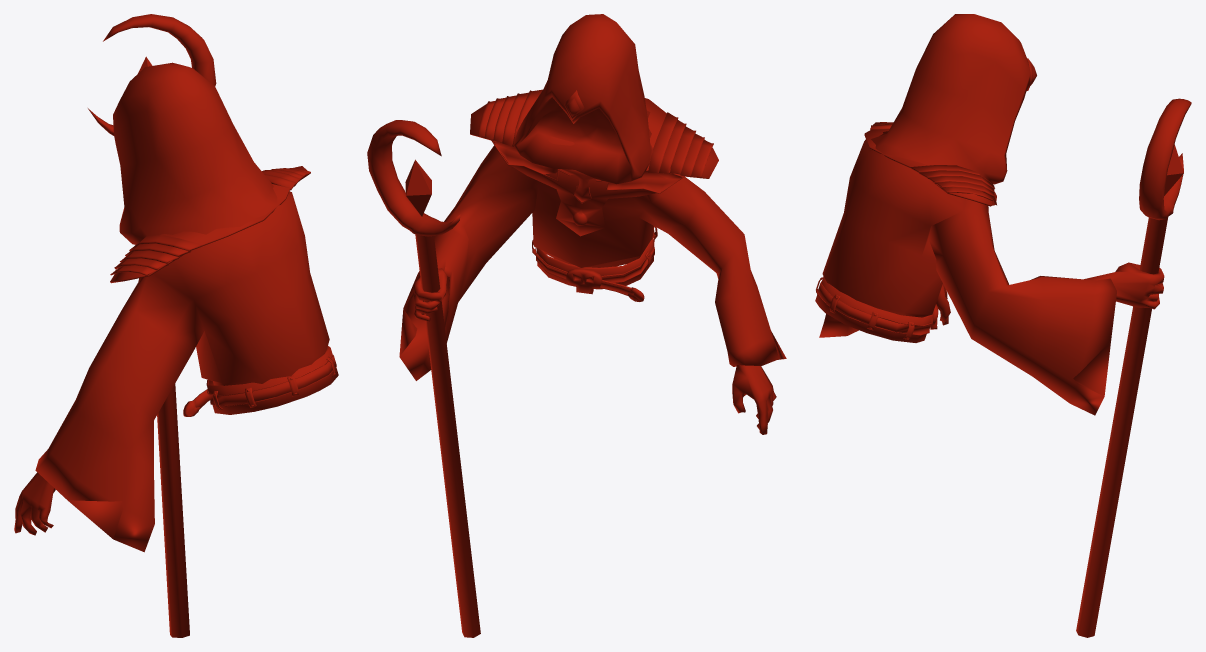
Rendered from top_000027.obj.
The picture shows the model from 3 angles, left to right: view 1: azimuth 30°, elevation 25°; view 2: azimuth 150°, elevation 25°; view 3: azimuth 270°, elevation 25°; orthographic projection. The views are drawn at different scales.
Parts seen in each view (by area): view 1: LowPoly_Warlock.001_Plane.000; view 2: LowPoly_Warlock.001_Plane.000; view 3: LowPoly_Warlock.001_Plane.000.
Part boxes in pixels (x1,y1,x2,y2): LowPoly_Warlock.001_Plane.000: (14, 14, 338, 637); LowPoly_Warlock.001_Plane.000: (367, 14, 786, 637); LowPoly_Warlock.001_Plane.000: (815, 14, 1191, 637).
Bounding box in the file's own units: 1.06 × 2.06 × 1.2.
